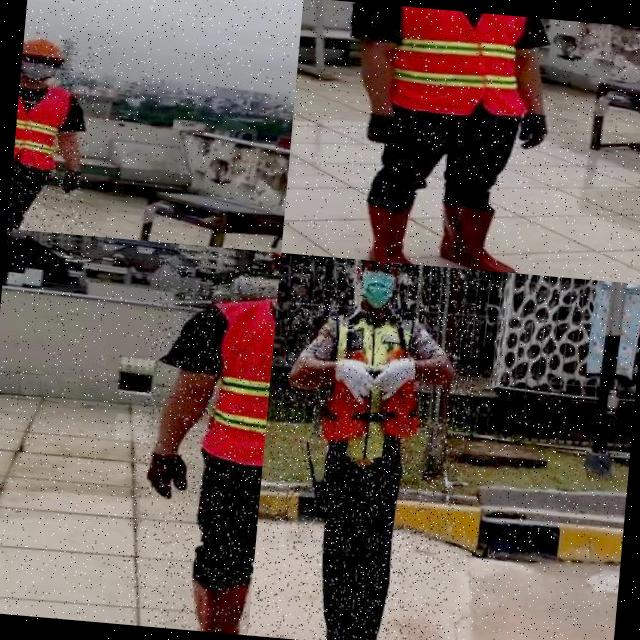boots: (441, 196, 525, 274), (346, 194, 432, 265), (178, 575, 252, 635)
helmet: (22, 34, 68, 61)
vest: (362, 3, 538, 122), (320, 307, 430, 466), (204, 296, 277, 470), (12, 76, 73, 171)
